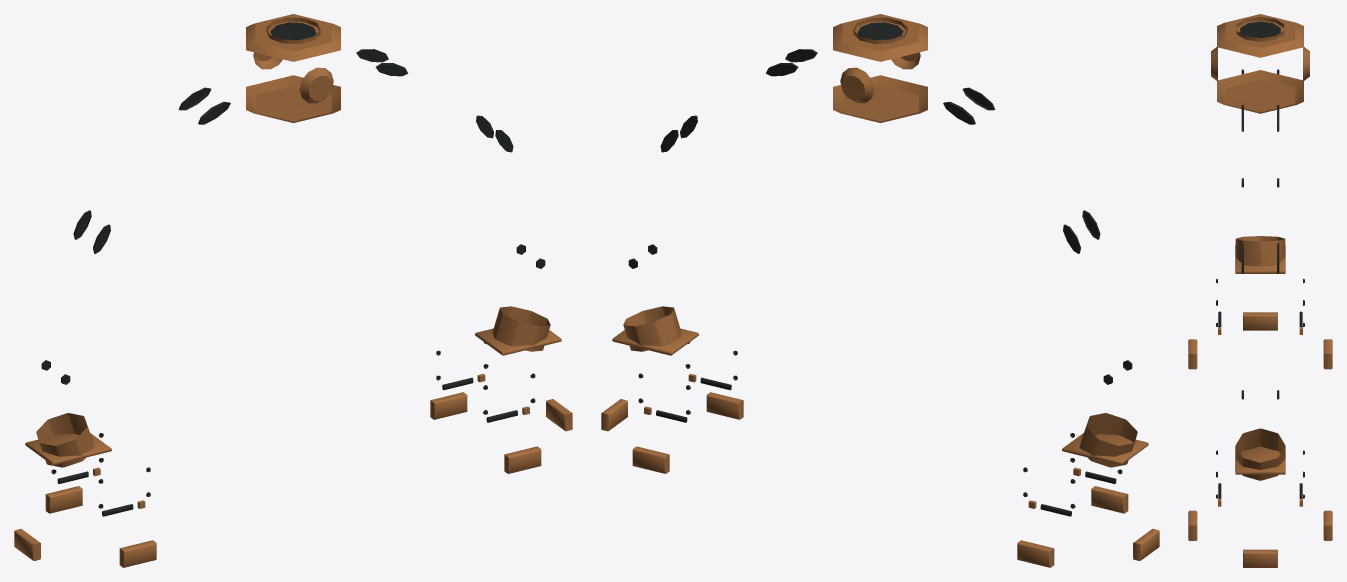
The model's file is fabricator_hoop_detail1.glb.
The picture shows the model from 3 angles, left to right: view 1: azimuth 30°, elevation 25°; view 2: azimuth 150°, elevation 25°; view 3: azimuth 270°, elevation 25°; orthographic projection. The views are drawn at different scales.
Visible parts, largest first — view 1: Detail1; view 2: Detail1; view 3: Detail1.
Boxes of the visible parts, x1=… form: Detail1: x1=14, y1=14, x2=572, y2=567; Detail1: x1=601, y1=14, x2=1159, y2=567; Detail1: x1=1188, y1=14, x2=1332, y2=567.
Bounding box in the file's own units: 11.38 × 9.25 × 2.88.
